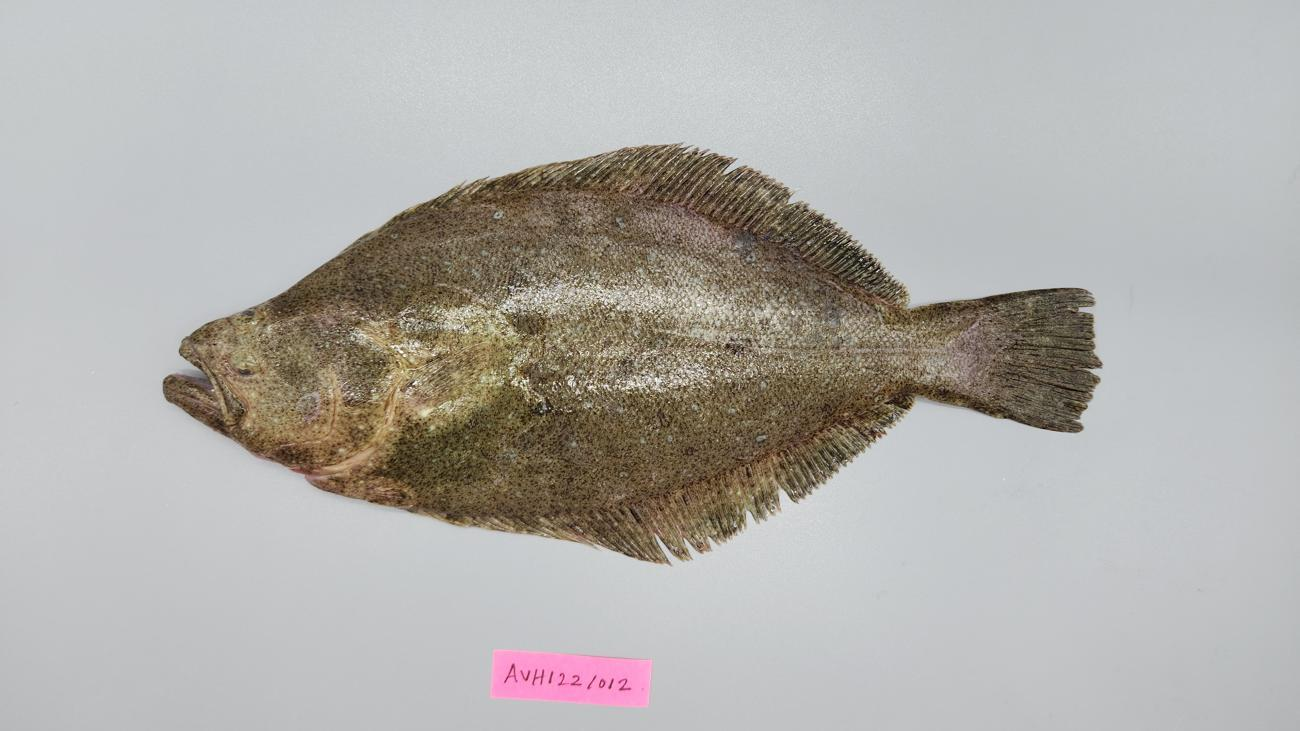VIFCH: (997, 287, 1102, 432)
VIOUY: (160, 145, 1102, 565)
